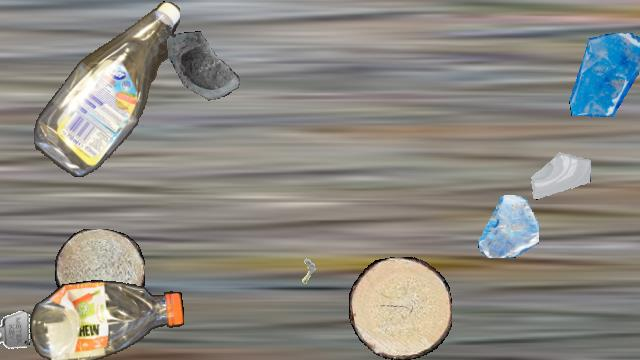glass: (167, 31, 249, 113), (566, 33, 640, 117), (476, 195, 538, 257), (530, 140, 590, 200)
metal: (286, 255, 326, 295), (0, 306, 31, 356)
plastic: (34, 1, 180, 177), (30, 279, 184, 359)
wood: (349, 257, 451, 359), (55, 229, 145, 313)
